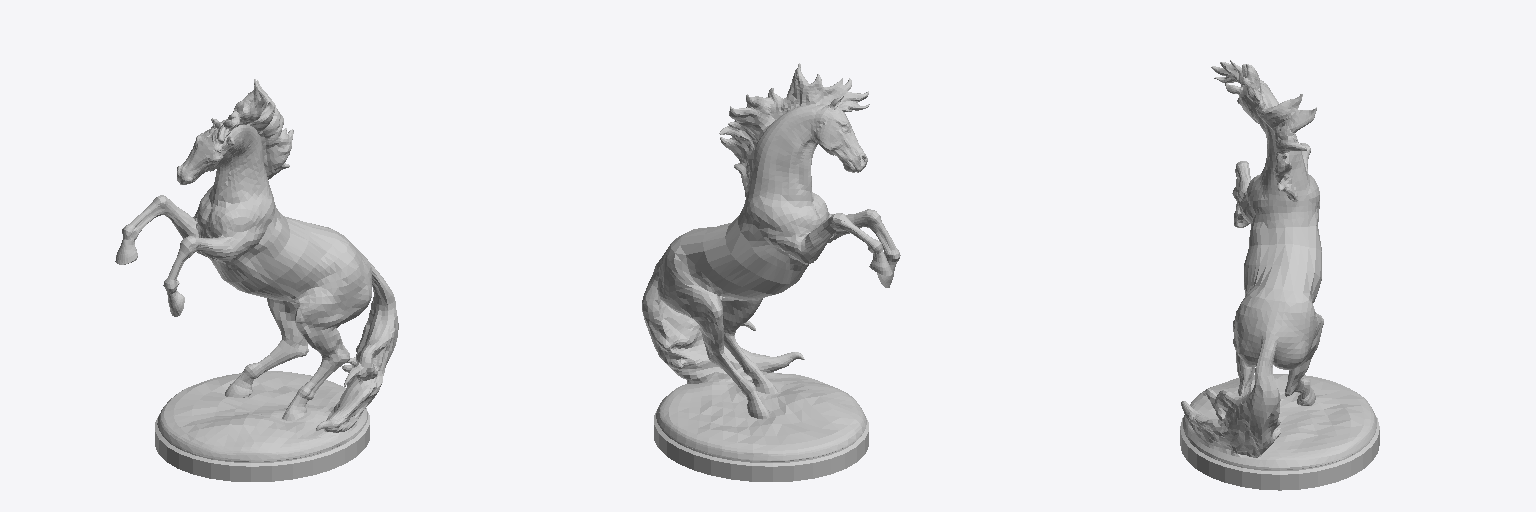
File: horse.obj
The picture shows the model from 3 angles: view 1: azimuth 30°, elevation 25°; view 2: azimuth 150°, elevation 25°; view 3: azimuth 270°, elevation 25°; orthographic projection.
Parts seen in each view (by area): view 1: horse_statue_01; view 2: horse_statue_01; view 3: horse_statue_01.
Boxes of the visible parts, box(x1,y1,x2,y2) form: horse_statue_01: box(115, 79, 398, 481); horse_statue_01: box(642, 63, 900, 481); horse_statue_01: box(1180, 60, 1379, 490).
Bounding box in the file's own units: 2.06 × 2.77 × 1.36.